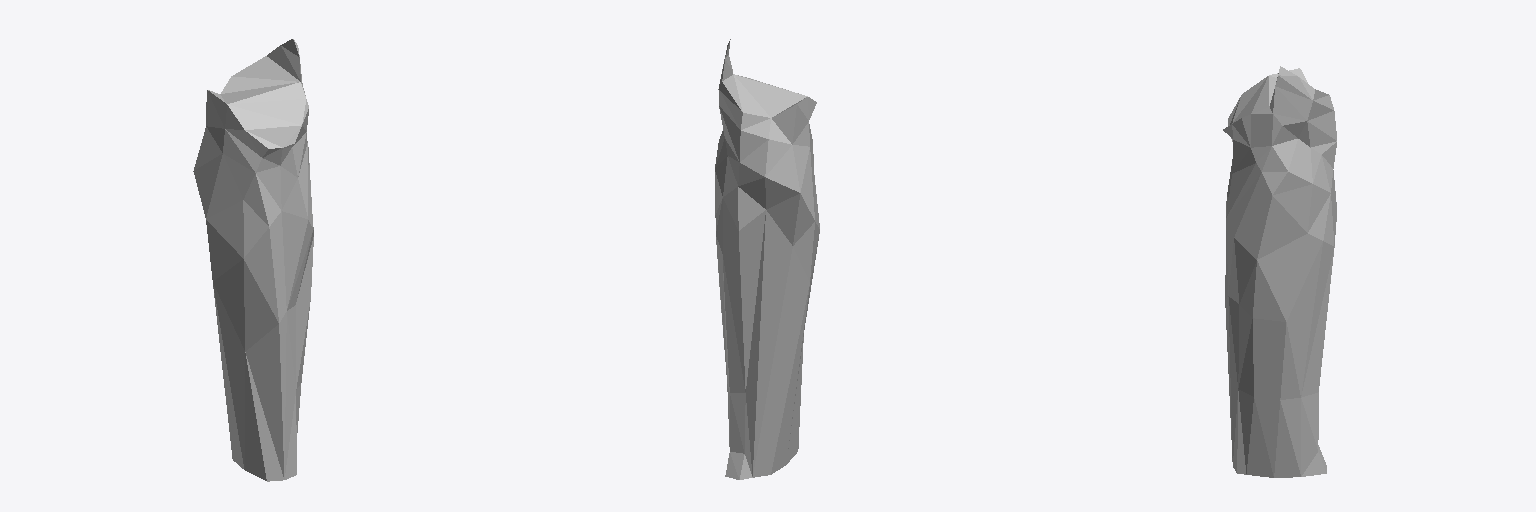
File: leftforearm.obj
3 views of the same model, side by side, from view 1: azimuth 30°, elevation 25°; view 2: azimuth 150°, elevation 25°; view 3: azimuth 270°, elevation 25° (orthographic).
Visible parts, largest first — view 1: cube1_cut13; view 2: cube1_cut13; view 3: cube1_cut13.
Part boxes in pixels (x1,y1,x2,y2): cube1_cut13: (193,39,313,481); cube1_cut13: (715,39,819,479); cube1_cut13: (1223,66,1336,477).
Bounding box in the file's own units: 0.4759 × 1.95 × 0.4871.